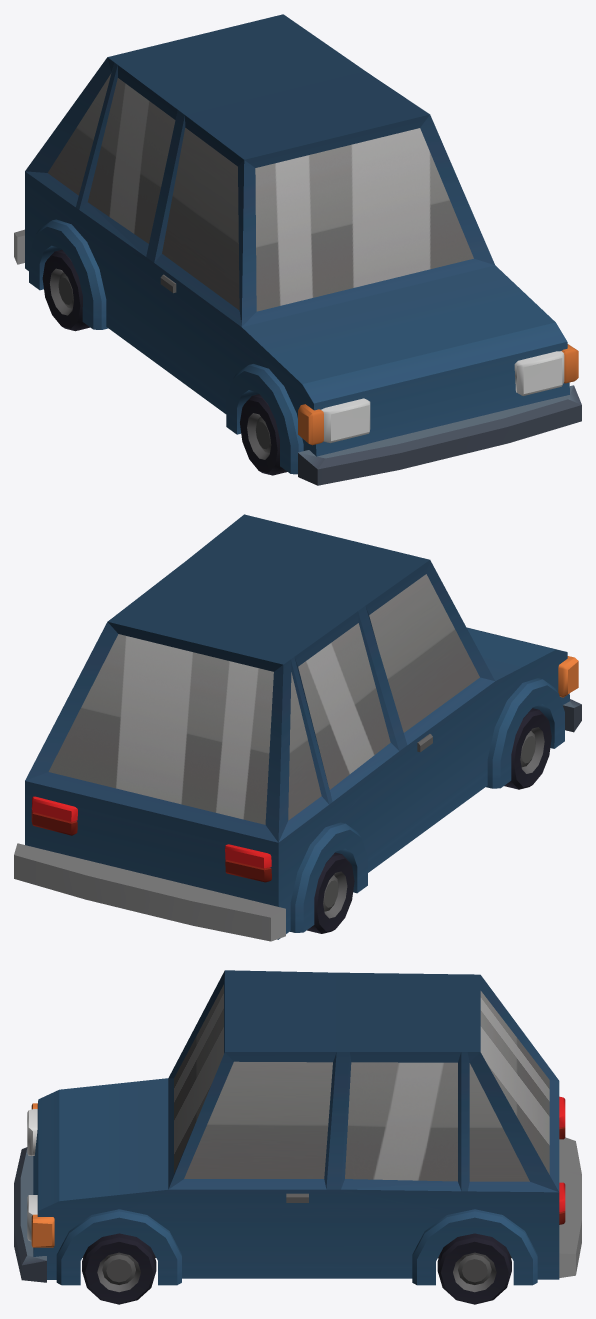
Rendered from Car_1_14.glb.
3 renders of one model, top to bottom at view 1: azimuth 30°, elevation 25°; view 2: azimuth 150°, elevation 25°; view 3: azimuth 270°, elevation 25°, orthographic. The views are drawn at different scales.
Parts seen in each view (by area): view 1: Car_1_14, Wheel_Br, Wheel_Fr; view 2: Car_1_14, Wheel_Fr, Wheel_Br; view 3: Car_1_14, Wheel_Fl, Wheel_Bl.
Boxes of the visible parts, bbox=[...] form: Car_1_14: bbox=[14, 14, 581, 485]; Wheel_Br: bbox=[42, 249, 89, 331]; Wheel_Fr: bbox=[240, 394, 287, 475]; Car_1_14: bbox=[14, 514, 581, 941]; Wheel_Fr: bbox=[504, 708, 551, 789]; Wheel_Br: bbox=[307, 852, 354, 933]; Car_1_14: bbox=[14, 970, 581, 1285]; Wheel_Fl: bbox=[82, 1233, 156, 1304]; Wheel_Bl: bbox=[437, 1233, 511, 1304].
Bounding box in the file's own units: 1.05 × 0.9433 × 2.07.
4 materials, 4 textured.
